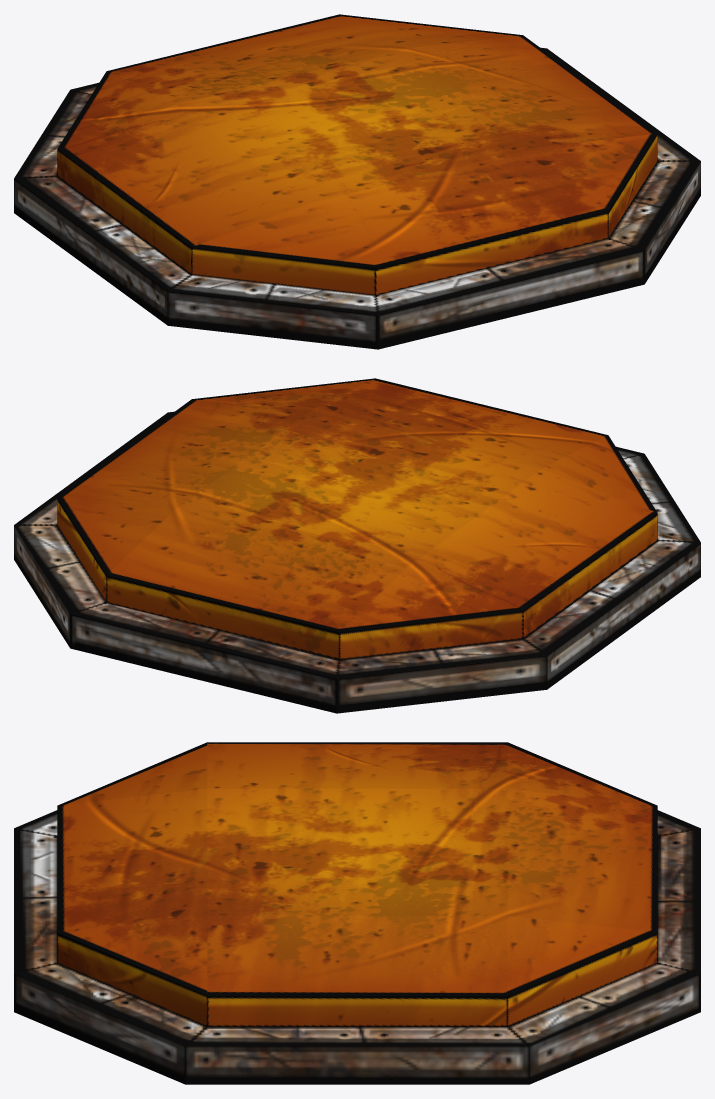
The model's file is Niet ingedrukt pressure plate.fbx.
The picture shows the model from 3 angles, top to bottom: view 1: azimuth 30°, elevation 25°; view 2: azimuth 150°, elevation 25°; view 3: azimuth 270°, elevation 25°; orthographic projection. The views are drawn at different scales.
Parts seen in each view (by area): view 1: polySurface2, polySurface1; view 2: polySurface2, polySurface1; view 3: polySurface2, polySurface1.
Boxes of the visible parts, <box> form: polySurface2: <box>57,14,657,295</box>; polySurface1: <box>14,47,700,349</box>; polySurface2: <box>57,378,657,659</box>; polySurface1: <box>14,411,700,713</box>; polySurface2: <box>57,742,657,1026</box>; polySurface1: <box>14,810,700,1084</box>.
Size of the model in its own units: 2.85 by 0.4006 by 2.85.
